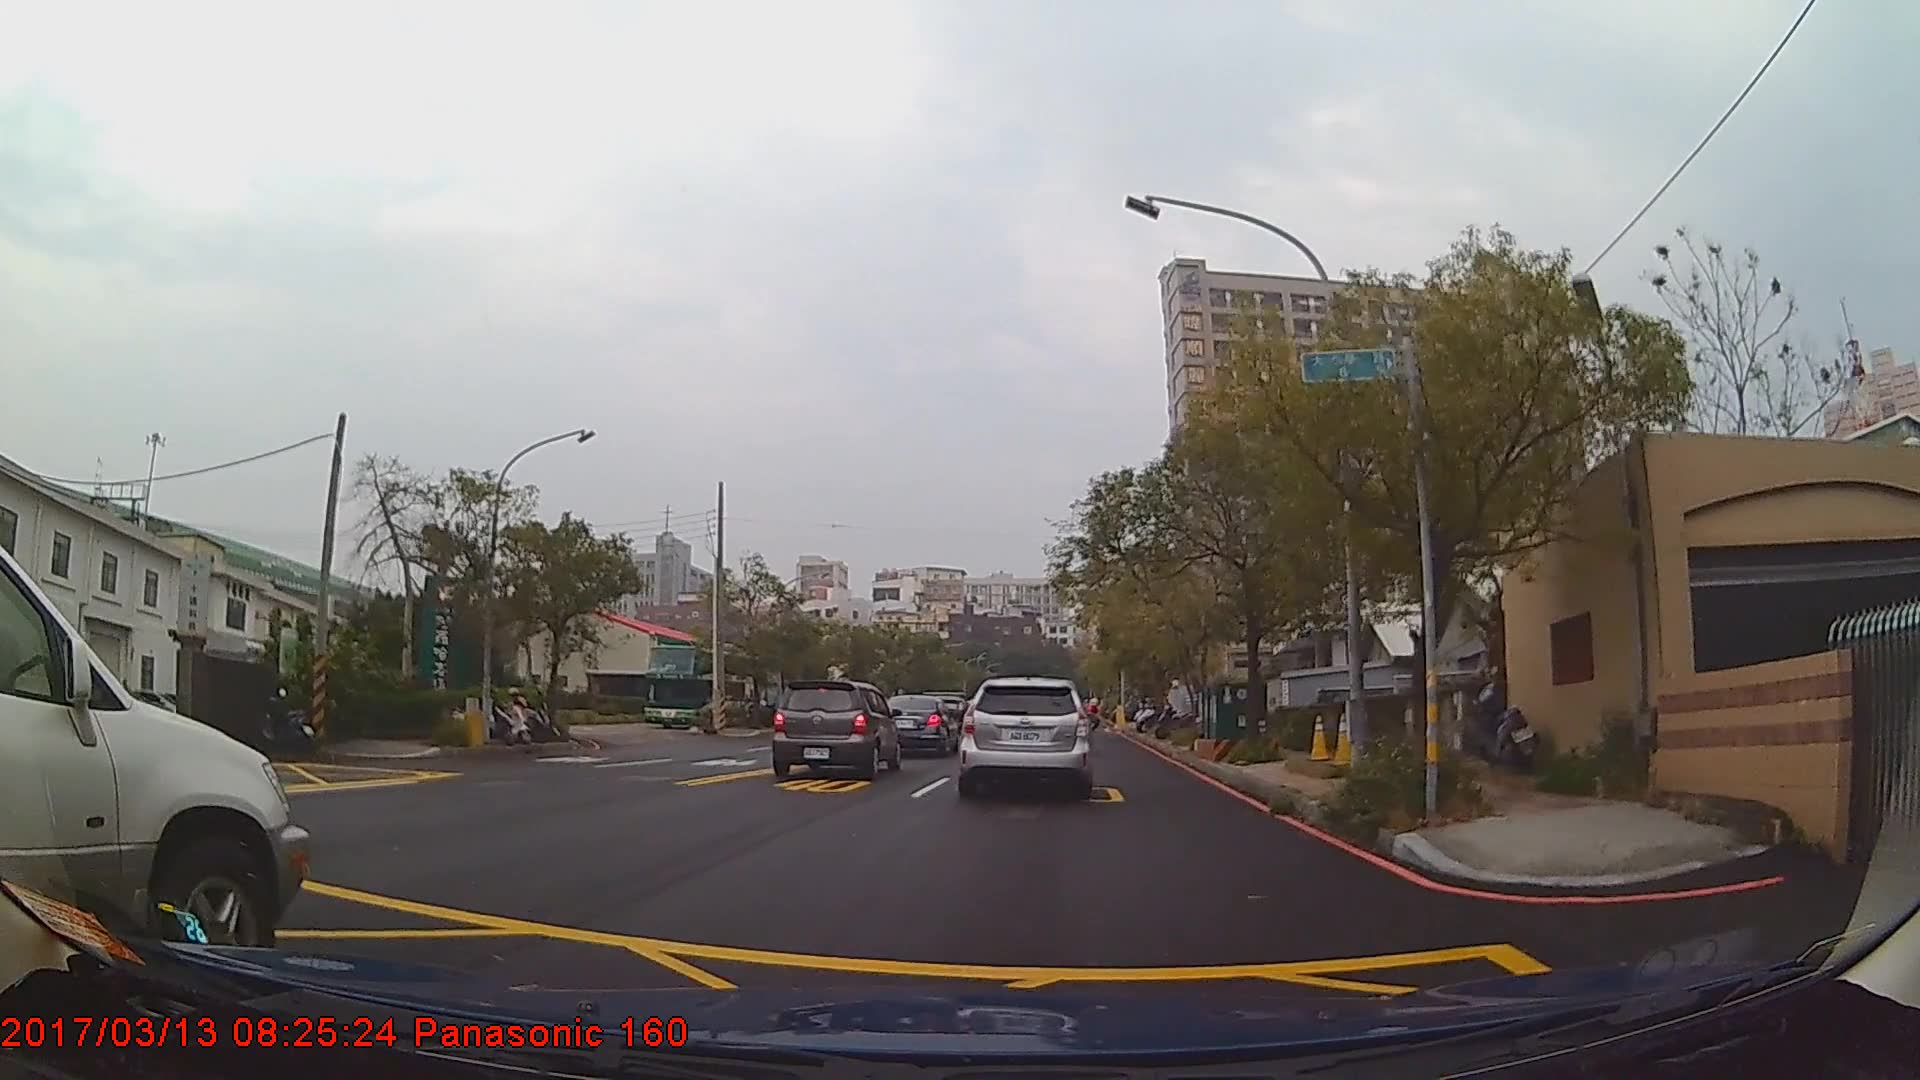vehicle: (0, 545, 307, 986), (956, 676, 1095, 800), (767, 678, 899, 774), (644, 640, 764, 727), (876, 690, 959, 757)
